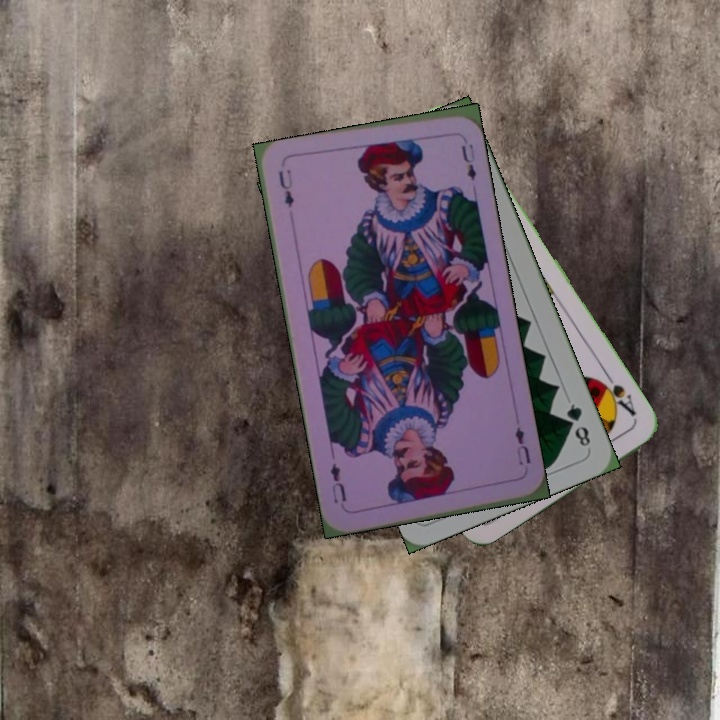EU: (511, 422, 533, 475), (274, 165, 297, 210)
G8: (562, 399, 593, 449)
SA: (593, 369, 640, 419)
